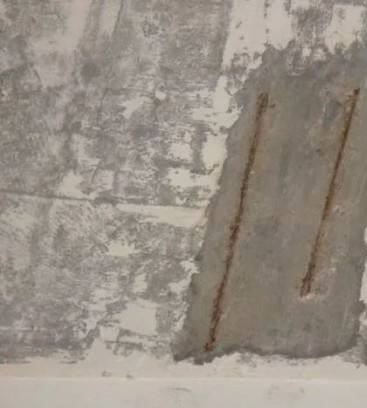Exposed reinforcement: (203, 93, 270, 352), (298, 89, 359, 298)
Spalling: (169, 36, 367, 367)
